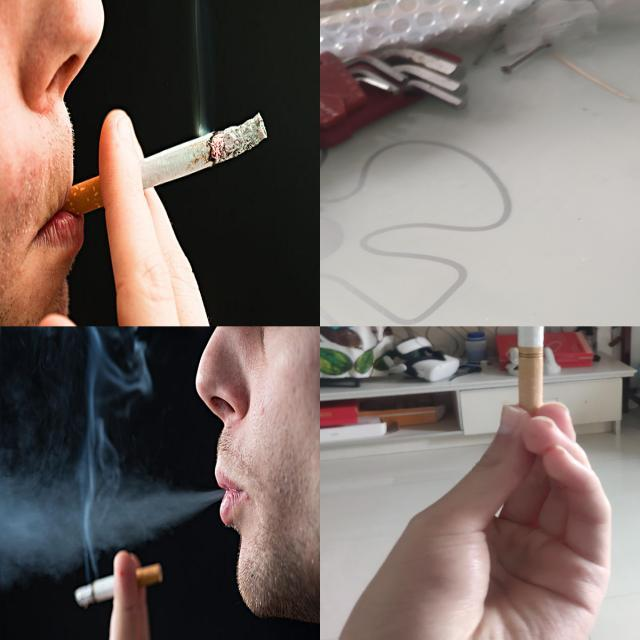smoke: (62, 111, 270, 219), (72, 560, 170, 606), (516, 326, 548, 412)
